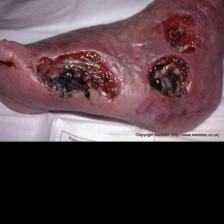Wound: (34, 44, 123, 104), (144, 49, 196, 115), (155, 8, 207, 53)
